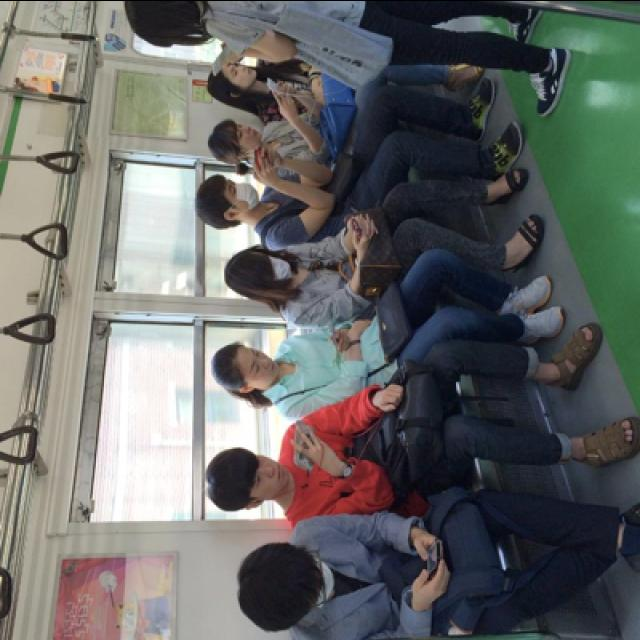with_mask: (226, 181, 260, 208), (262, 252, 294, 278)
without_mask: (251, 452, 288, 494), (243, 346, 277, 384), (232, 120, 261, 150), (227, 59, 256, 83)
